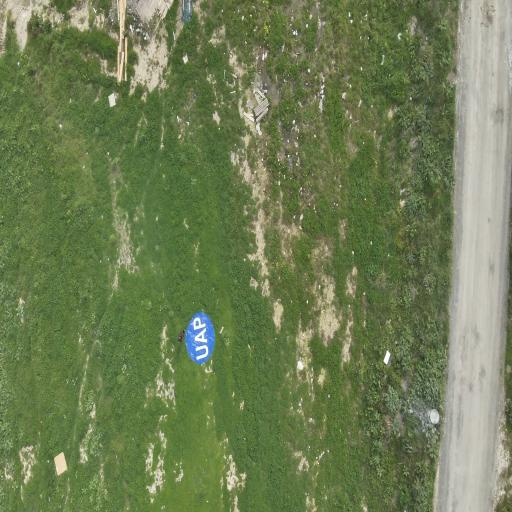UAP: (186, 312, 214, 363)
person: (179, 333, 182, 342)
